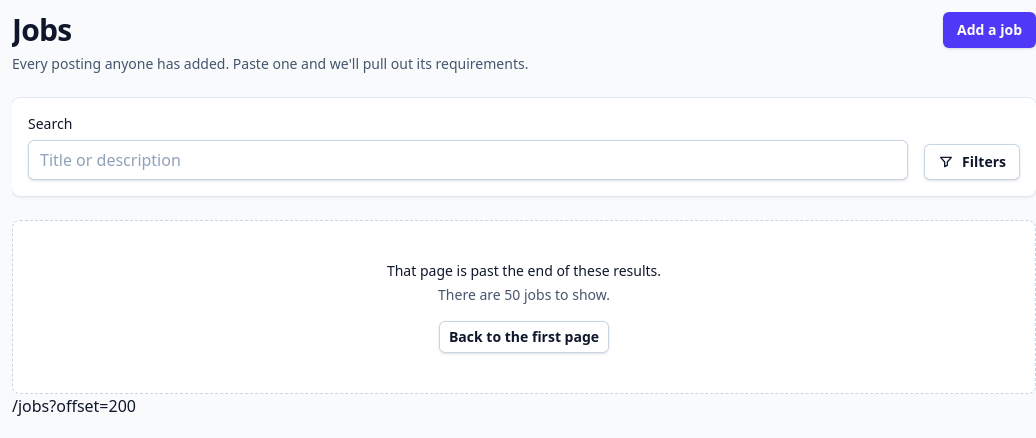
Test case: JobsPage › the URL holds the filters › explains an empty page past the end rather than blaming the filters
Expected: the text "That page is past the end of these results." is shown, [387,261,661,280]
Expected: the text "There are 50 jobs to show." is shown, [438,285,610,304]
Click the button "Back to the first page" at (524, 337), box [439,321,609,353]
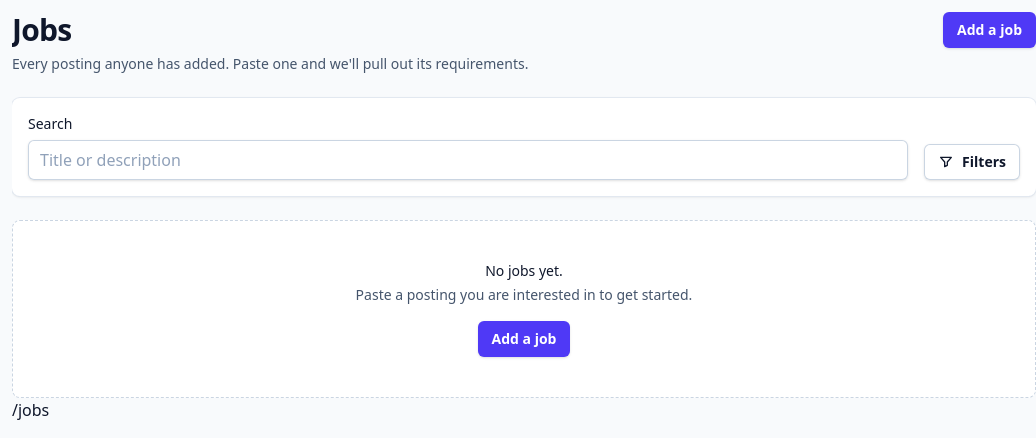
Now the text named "location" reads "/jobs", box [12,399,49,421]
